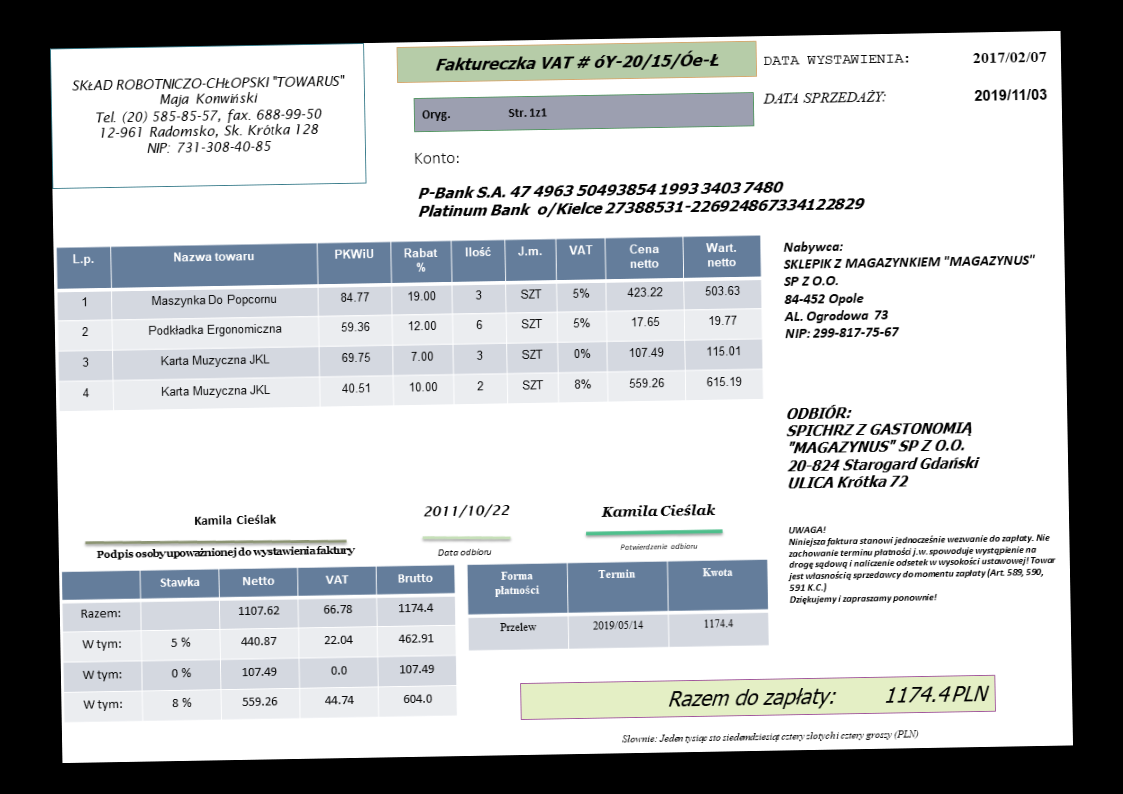Table: (55, 233, 764, 412), (61, 564, 459, 723), (466, 557, 770, 652)
TextBox: (781, 234, 1039, 343), (69, 71, 349, 157), (786, 520, 1060, 607), (415, 176, 866, 220), (785, 401, 984, 492), (666, 678, 992, 712), (433, 49, 722, 77), (620, 725, 921, 747), (93, 541, 357, 564), (759, 50, 912, 69), (419, 104, 548, 125), (600, 500, 719, 521), (762, 87, 889, 106), (422, 500, 512, 520), (971, 46, 1049, 68), (971, 84, 1049, 104), (191, 512, 278, 529), (618, 540, 699, 553), (411, 149, 461, 168), (435, 546, 492, 559)
